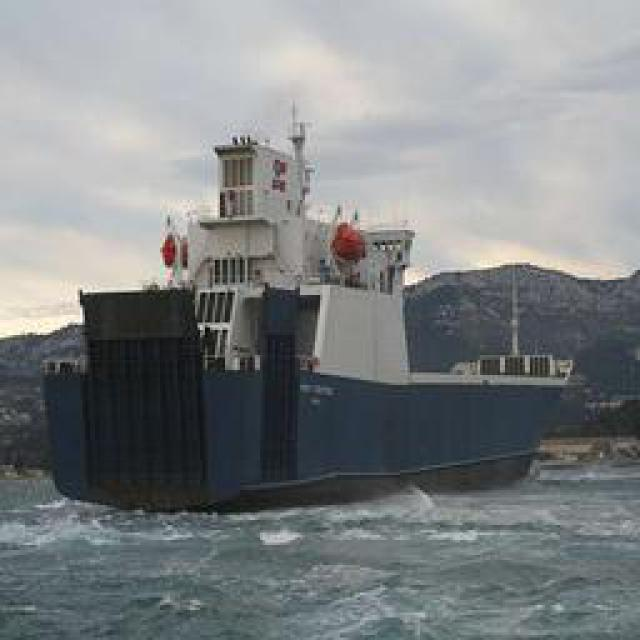Ship: (44, 92, 574, 510)
